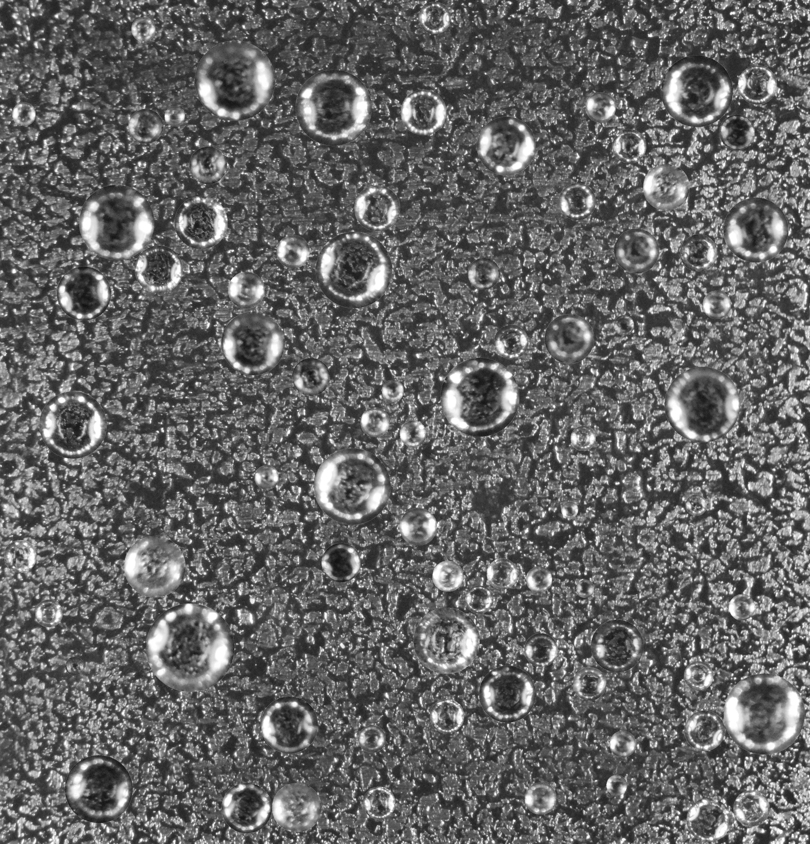Bubble: (146, 603, 234, 691), (723, 673, 804, 754), (194, 40, 274, 120), (440, 357, 519, 436), (315, 231, 392, 308), (664, 366, 740, 442), (295, 69, 371, 145), (314, 448, 390, 524), (79, 184, 154, 259), (661, 55, 732, 126), (64, 755, 132, 823), (39, 391, 106, 458), (413, 607, 479, 673), (723, 197, 788, 262), (221, 311, 284, 375), (124, 536, 185, 597), (477, 116, 535, 175), (260, 696, 317, 753), (479, 665, 535, 722), (56, 266, 110, 320), (174, 196, 227, 249), (591, 619, 643, 672), (221, 783, 271, 833), (544, 314, 594, 363), (272, 783, 321, 832), (134, 245, 182, 293), (400, 89, 446, 135), (643, 164, 689, 210), (354, 185, 400, 231), (614, 228, 659, 273), (686, 798, 730, 841), (684, 710, 724, 750), (321, 543, 360, 582), (738, 65, 777, 104), (189, 146, 226, 184), (399, 508, 436, 545), (558, 183, 595, 220), (680, 234, 717, 271), (292, 358, 329, 395), (228, 271, 264, 308), (733, 790, 769, 826), (128, 108, 163, 143), (719, 114, 754, 149), (494, 324, 528, 359), (429, 699, 464, 733), (612, 129, 646, 163), (276, 235, 309, 268), (524, 633, 557, 666), (362, 786, 395, 819), (573, 667, 606, 700), (3, 540, 36, 572), (418, 1, 450, 33), (524, 782, 556, 814), (468, 257, 499, 289), (486, 558, 517, 589), (432, 560, 463, 591), (585, 92, 615, 122), (684, 661, 713, 690), (360, 407, 389, 436), (702, 290, 731, 318), (465, 585, 493, 613), (35, 599, 62, 627), (399, 420, 426, 447), (358, 725, 385, 752), (526, 566, 552, 592), (729, 594, 755, 620), (609, 731, 635, 757), (570, 425, 595, 450), (131, 17, 155, 41), (254, 465, 278, 489), (12, 102, 35, 125), (381, 379, 403, 401), (685, 494, 706, 515), (606, 775, 627, 795), (614, 315, 634, 335), (164, 106, 184, 126), (65, 656, 83, 675), (576, 579, 594, 597), (561, 501, 578, 518), (267, 512, 277, 522)
